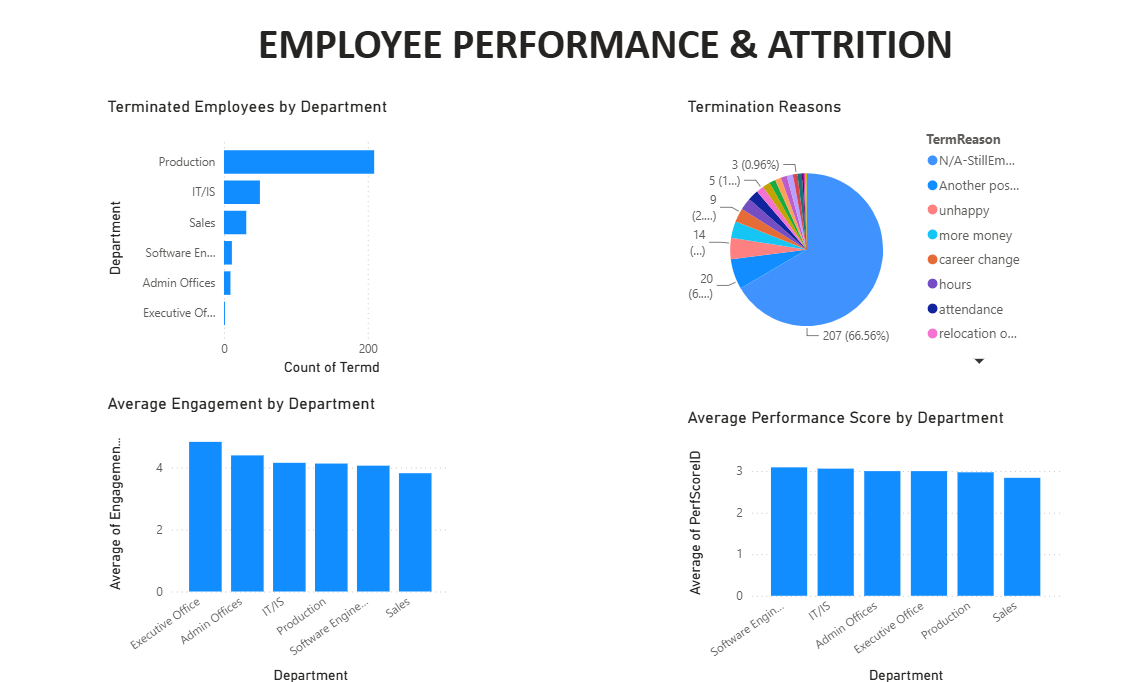

Layout of this report page (visuals, bound fields, positions):
{"tool":"powerbi","page":{"name":"Performance & Attrition","canvas":[1280,720],"ordinal":2},"visuals":[{"type":"textbox","box":[23.3,28.8,1235,52.1],"z":0},{"type":"clusteredBarChart","title":"Terminated Employees by Department","fields":{"Category":["HRDataset_v14.Department"],"Y":["CountNonNull(HRDataset_v14.Termd)"]},"box":[120.8,112.5,360.9,290.9],"z":1},{"type":"pieChart","title":"Termination Reasons","fields":{"Category":["HRDataset_v14.TermReason"],"Y":["CountNonNull(HRDataset_v14.Employee_Name)"]},"box":[714.9,112.5,361,285],"z":2},{"type":"clusteredColumnChart","title":"Average Engagement by Department","fields":{"Category":["HRDataset_v14.Department"],"Y":["Avg(HRDataset_v14.EngagementSurvey)"]},"box":[120.8,418.5,360.9,301.9],"z":3},{"type":"clusteredColumnChart","title":"Average Performance Score by Department","fields":{"Category":["HRDataset_v14.Department"],"Y":["Avg(HRDataset_v14.PerfScoreID)"]},"box":[714.9,432.2,392.5,288.2],"z":4}]}

Visuals, with their boxes on the page's 1280x720 design canvas (x1, y1, x2, y2). These are canvas units, not pixel positions in the 1147x682 screenshot, which may show the page scaled, cropped or inside an application window:
textbox: x1=23, y1=29, x2=1258, y2=81
"Terminated Employees by Department" clusteredBarChart: x1=121, y1=112, x2=482, y2=403
"Termination Reasons" pieChart: x1=715, y1=112, x2=1076, y2=398
"Average Engagement by Department" clusteredColumnChart: x1=121, y1=418, x2=482, y2=720
"Average Performance Score by Department" clusteredColumnChart: x1=715, y1=432, x2=1107, y2=720
